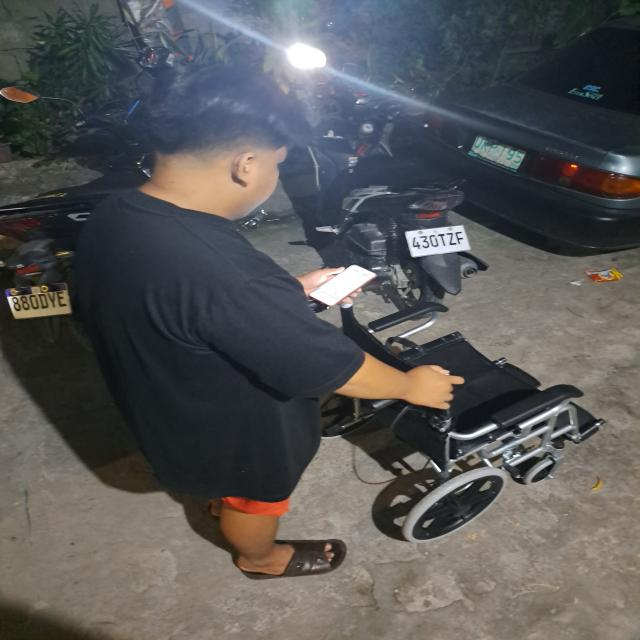wheelchairs: (322, 292, 610, 553)
